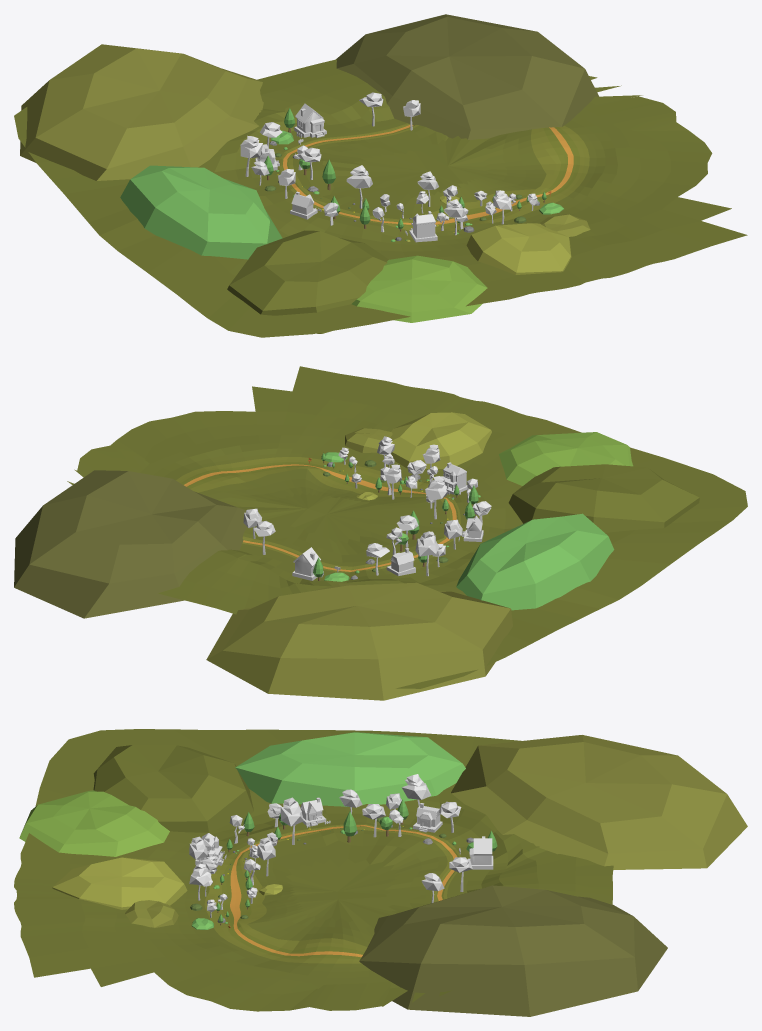
The model's file is main_ground.gltf.
3 views of the same model, one above another, from view 1: azimuth 30°, elevation 25°; view 2: azimuth 150°, elevation 25°; view 3: azimuth 270°, elevation 25° (orthographic). The views are drawn at different scales.
Parts seen in each view (by area): view 1: ground, trees.001; view 2: ground, trees.001; view 3: ground, trees.001.
Part boxes in pixels (x1,y1,x2,y2): ground: (14,14,747,337); trees.001: (264,130,563,241); ground: (14,366,747,700); trees.001: (321,452,480,581); ground: (14,729,747,1016); trees.001: (190,816,473,929).
Bounding box in the file's own units: 598 × 60.79 × 652.
